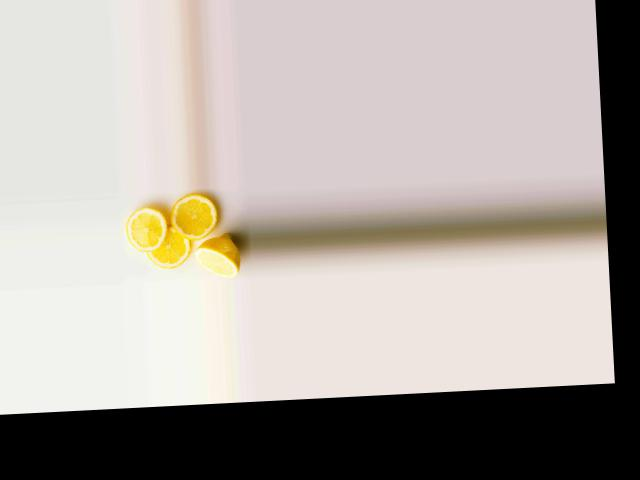lemon: (193, 237, 244, 280)
